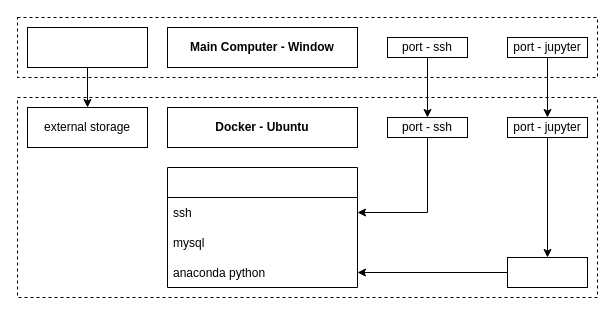
Image size: 615x315. Some labels were removed from this diagram. The box of each missing label's shape, as (x1, y1, x2, y2) in pixels:
Install List: (166, 166, 358, 288)
jupyterhub: (506, 256, 588, 288)
share storage: (26, 26, 148, 68)
